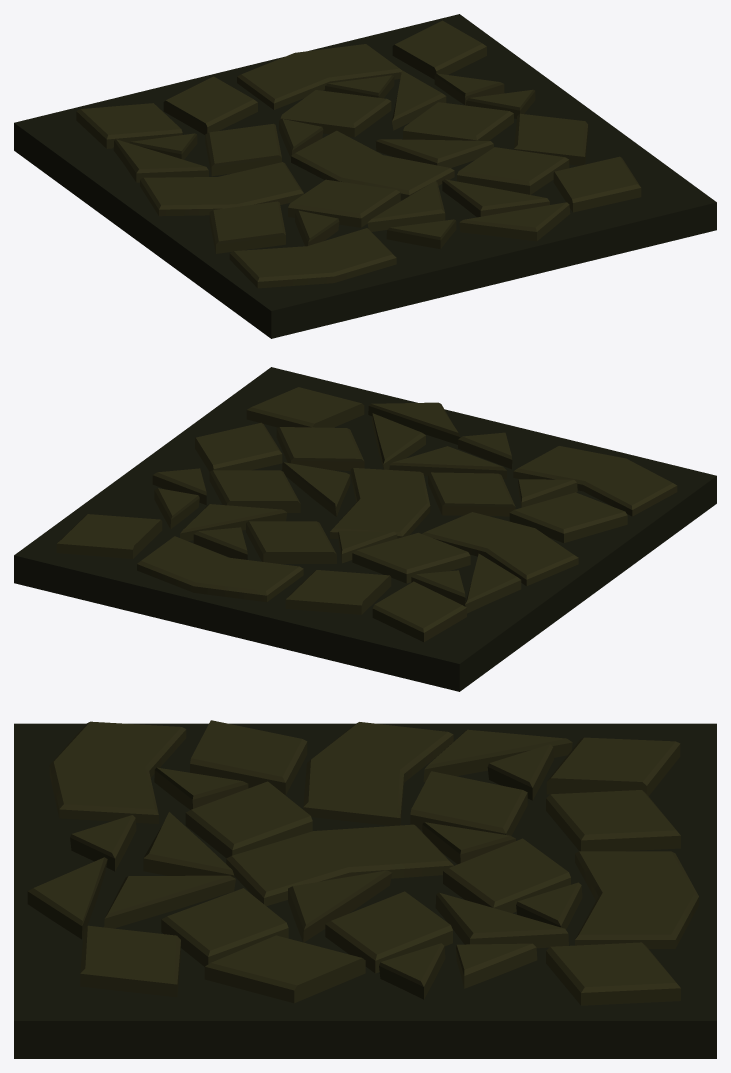
File: Pared ladrilos rotos.fbx
3 views of the same model, one above another, from view 1: azimuth 30°, elevation 25°; view 2: azimuth 150°, elevation 25°; view 3: azimuth 270°, elevation 25° (orthographic). The views are drawn at different scales.
Visible parts, largest first — view 1: pCube94; view 2: pCube94; view 3: pCube94.
Part boxes in pixels (x1,y1,x2,y2): pCube94: (14, 14, 716, 338); pCube94: (14, 367, 716, 691); pCube94: (14, 720, 716, 1058).
Bounding box in the file's own units: 2.99 × 0.2566 × 2.99.
